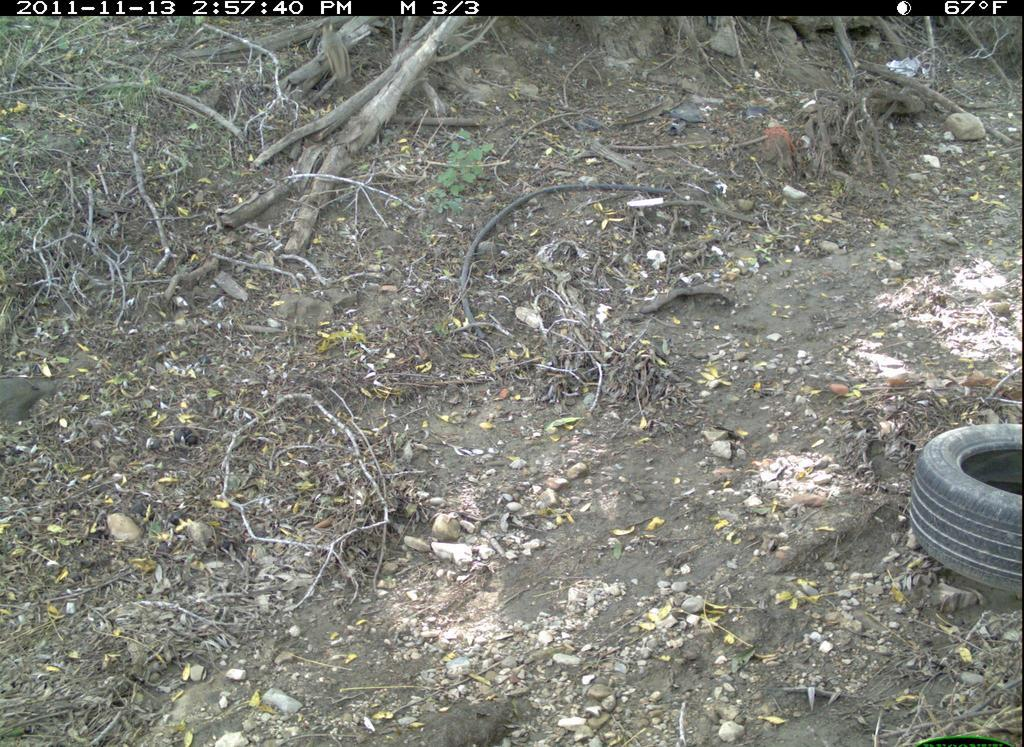squirrel: (313, 21, 360, 90)
